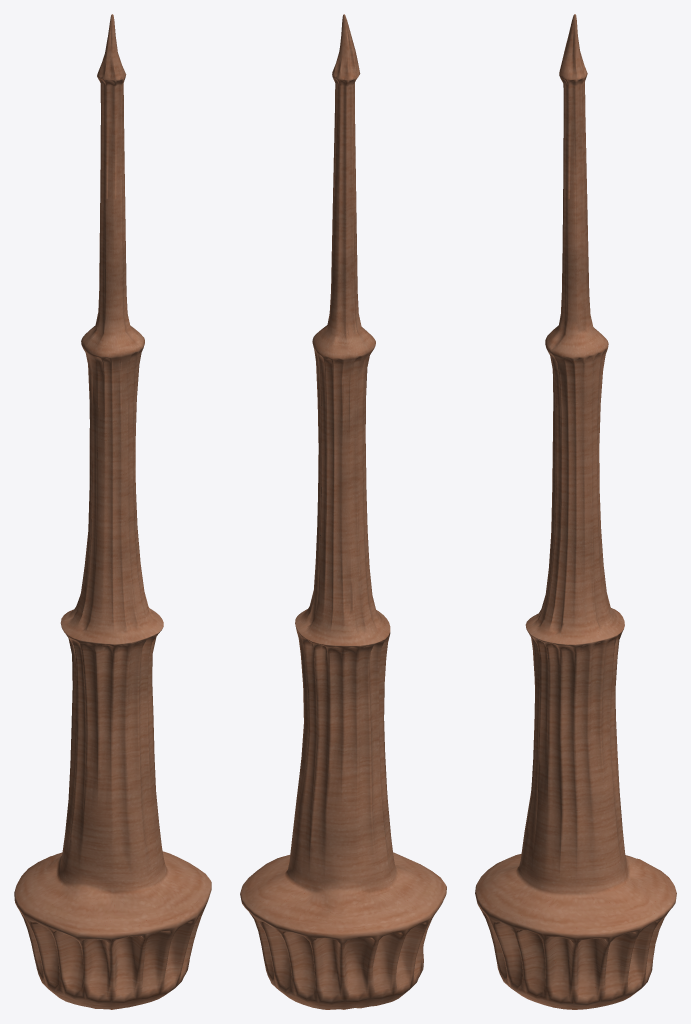
Rendered from Geonosis_Spyre01.fbx.
3 views of the same model, side by side, from view 1: azimuth 30°, elevation 25°; view 2: azimuth 150°, elevation 25°; view 3: azimuth 270°, elevation 25° (orthographic).
Parts seen in each view (by area): view 1: Geonosis_Spyre01; view 2: Geonosis_Spyre01; view 3: Geonosis_Spyre01.
Part boxes in pixels (x1,y1,x2,y2): Geonosis_Spyre01: [14, 14, 211, 1009]; Geonosis_Spyre01: [240, 14, 446, 1009]; Geonosis_Spyre01: [475, 14, 676, 1009].
Bounding box in the file's own units: 229 × 1224 × 228.
